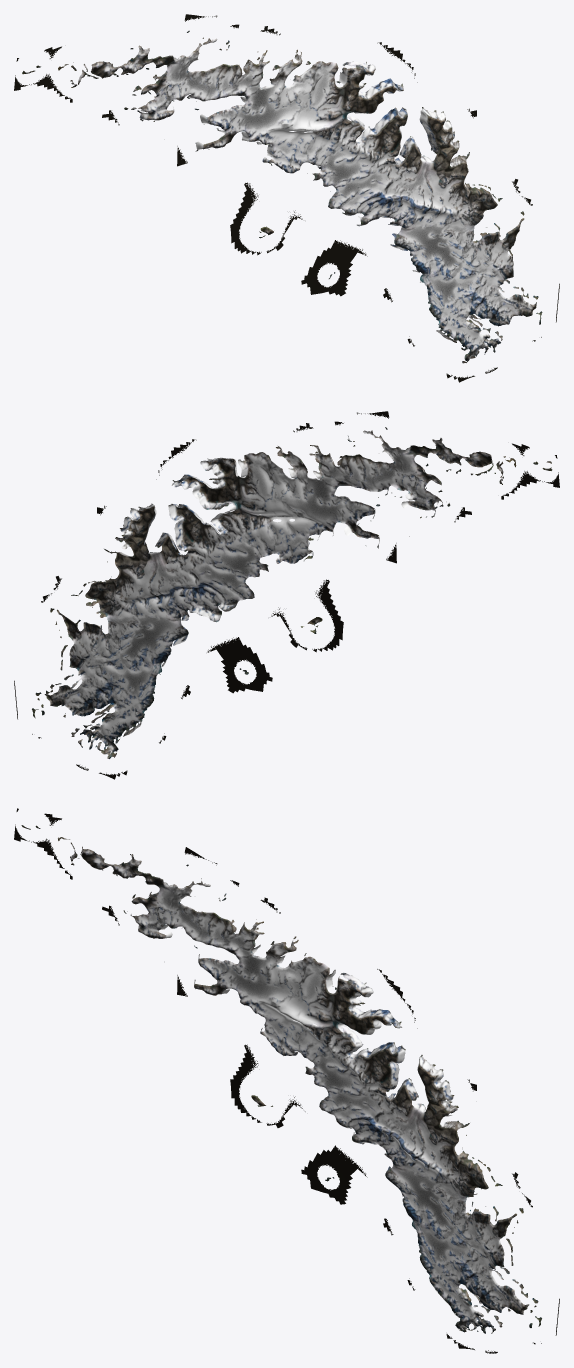
File: georgias_final.fbx
3 views of the same model, one above another, from view 1: azimuth 30°, elevation 25°; view 2: azimuth 150°, elevation 25°; view 3: azimuth 330°, elevation 25° (orthographic).
Visible parts, largest first — view 1: georgias_low; view 2: georgias_low; view 3: georgias_low.
Part boxes in pixels (left/top/right/bottom): georgias_low: left=14, top=14, right=559, bottom=382; georgias_low: left=14, top=411, right=559, bottom=779; georgias_low: left=14, top=808, right=559, bottom=1353.
Bounding box in the file's own units: 191 × 145 × 4.42.
Materials: 1 (1 with a texture image).
